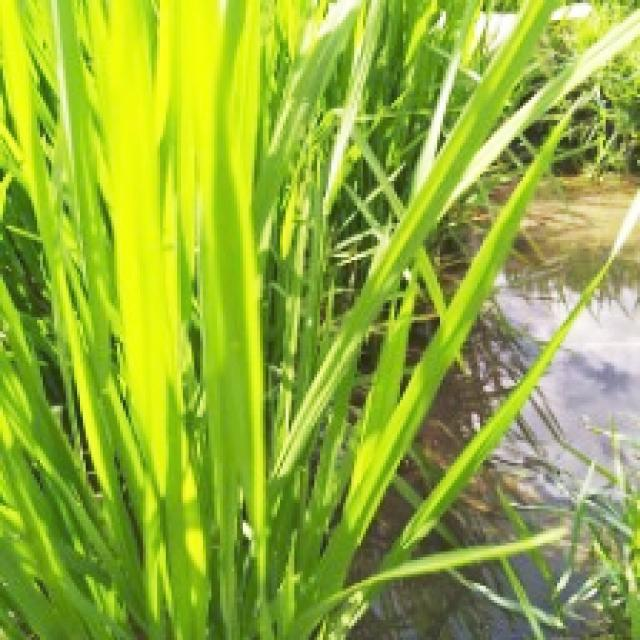health: (54, 0, 267, 640)
